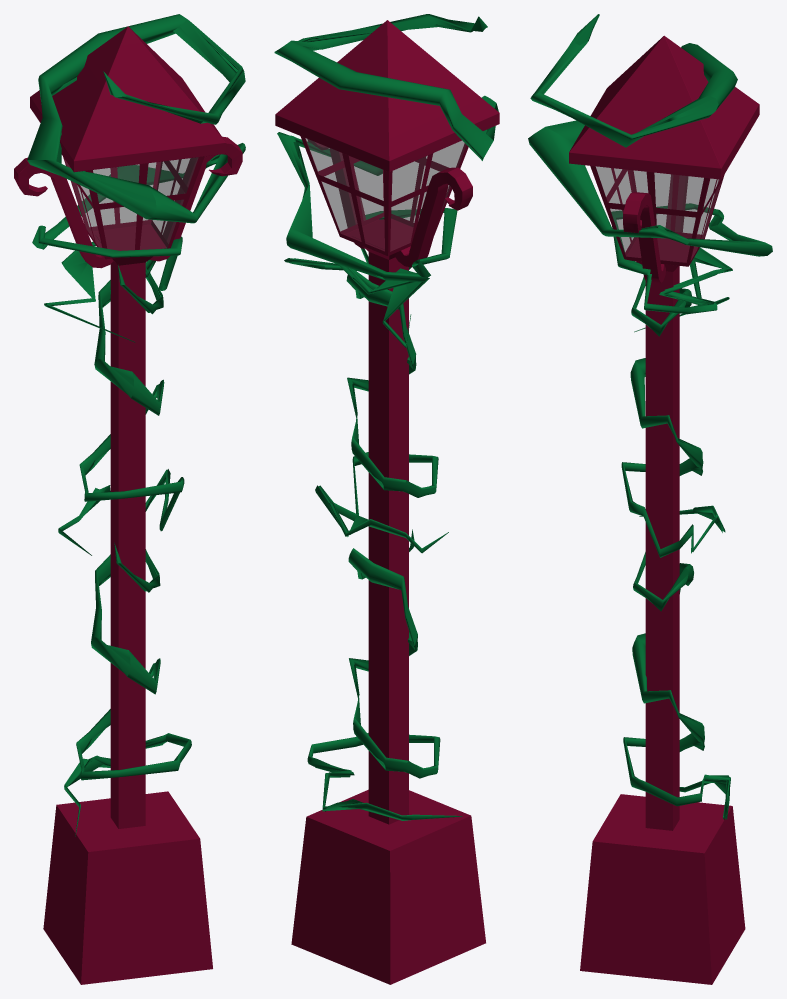
The model's file is lamp post 2.fbx.
The picture shows the model from 3 angles, left to right: view 1: azimuth 30°, elevation 25°; view 2: azimuth 150°, elevation 25°; view 3: azimuth 270°, elevation 25°; orthographic projection.
Visible parts, largest first — view 1: post_lamp, vine_3, vine_2, vine_1; view 2: post_lamp, vine_3, vine_2, vine_1; view 3: post_lamp, vine_3, vine_2, vine_1.
Boxes of the visible parts, x1,y1,x2,y2 form: post_lamp: (14, 26, 242, 984); vine_3: (27, 14, 245, 342); vine_2: (64, 543, 191, 836); vine_1: (58, 262, 184, 555); post_lamp: (275, 20, 499, 984); vine_3: (274, 14, 498, 347); vine_2: (307, 529, 462, 820); vine_1: (315, 267, 448, 553); post_lamp: (569, 35, 759, 984); vine_3: (528, 14, 772, 332); vine_2: (623, 552, 730, 819); vine_1: (621, 276, 725, 557).
Size of the model in its own units: 3.65 by 15.25 by 3.7.
